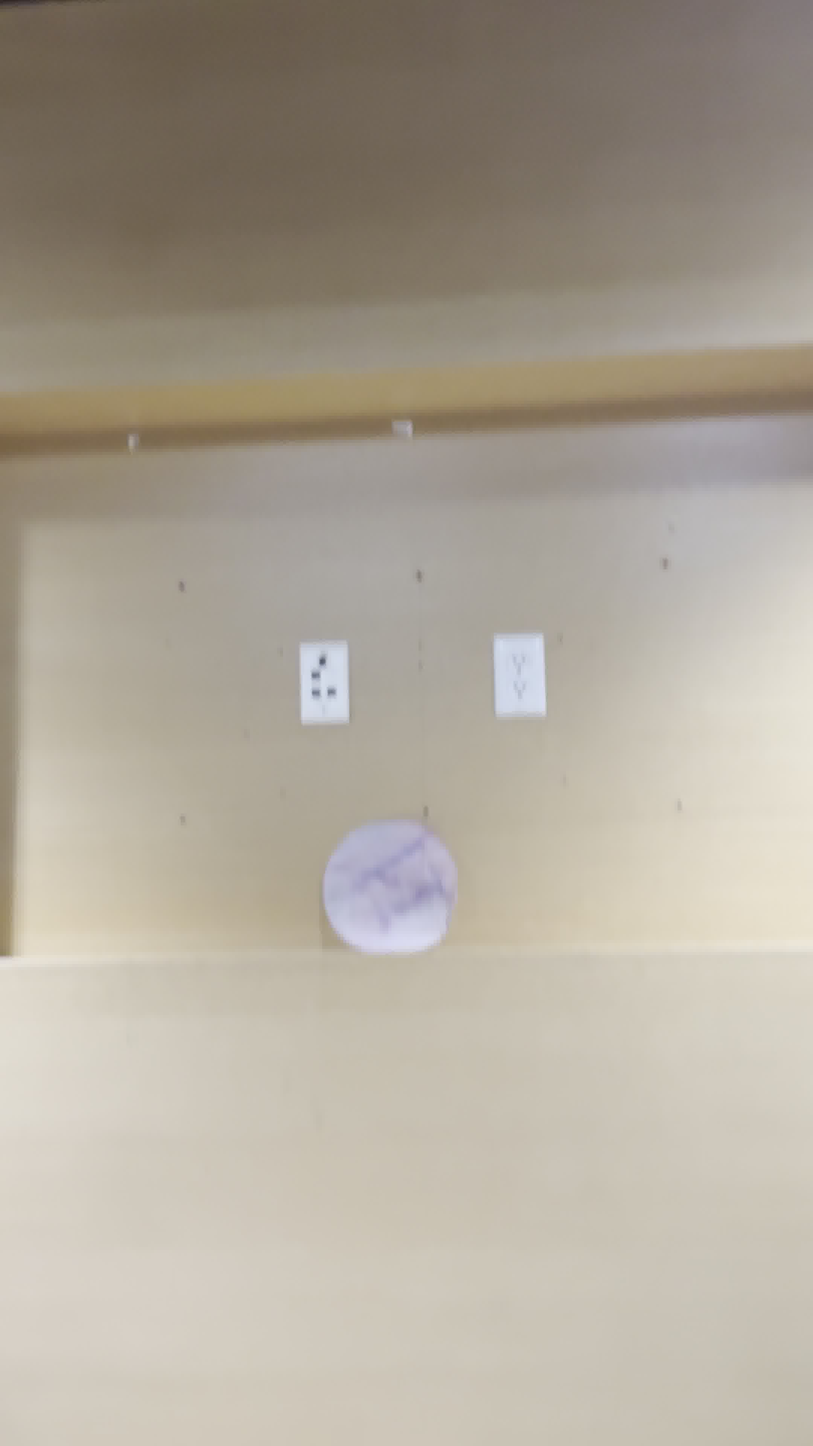Target: (325, 824, 457, 951)
